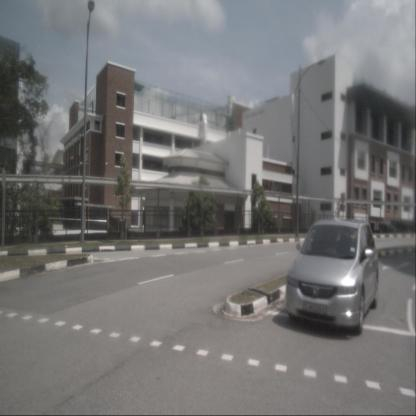vehicle-car: (284, 219, 380, 334)
